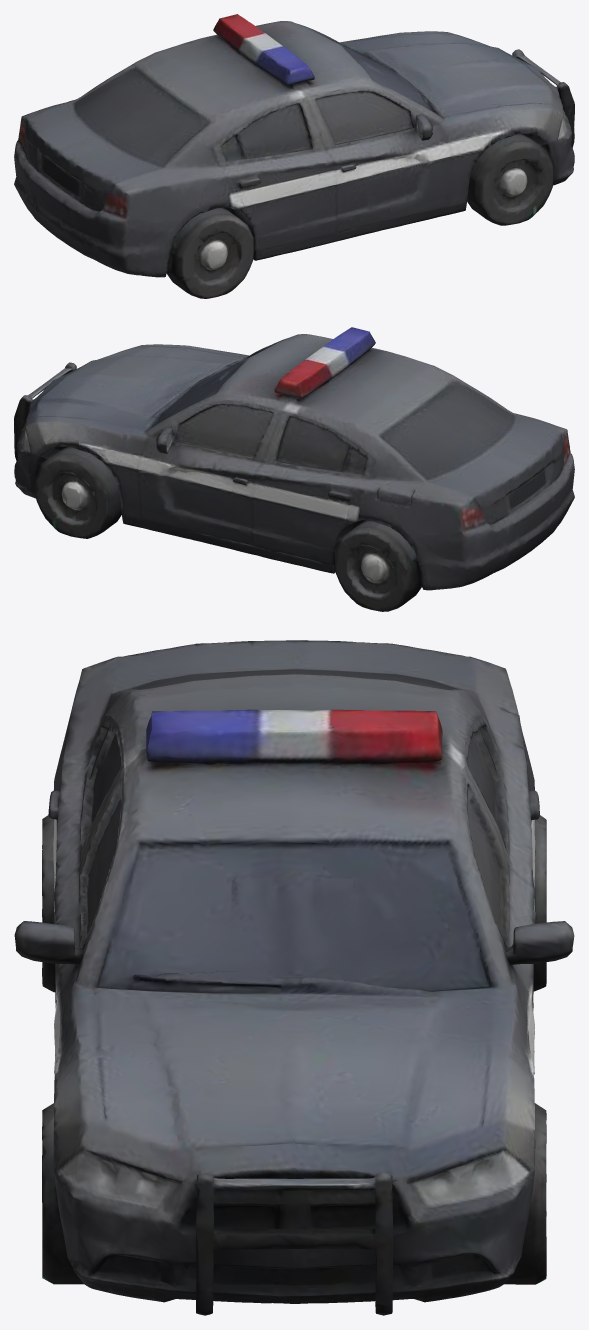
The model's file is viatura_civil.glb.
3 renders of one model, top to bottom at view 1: azimuth 30°, elevation 25°; view 2: azimuth 150°, elevation 25°; view 3: azimuth 270°, elevation 25°, orthographic. The views are drawn at different scales.
Visible parts, largest first — view 1: tripo_node_3ea06e88-7f2c-4cf0-bb3d-826f2961803c; view 2: tripo_node_3ea06e88-7f2c-4cf0-bb3d-826f2961803c; view 3: tripo_node_3ea06e88-7f2c-4cf0-bb3d-826f2961803c.
Part boxes in pixels (left/top/right/bottom): tripo_node_3ea06e88-7f2c-4cf0-bb3d-826f2961803c: left=14, top=14, right=574, bottom=298; tripo_node_3ea06e88-7f2c-4cf0-bb3d-826f2961803c: left=14, top=327, right=574, bottom=611; tripo_node_3ea06e88-7f2c-4cf0-bb3d-826f2961803c: left=14, top=640, right=574, bottom=1315.
Bounding box in the file's own units: 1 × 0.3527 × 0.4841.
Materials: 1 (1 with a texture image).
